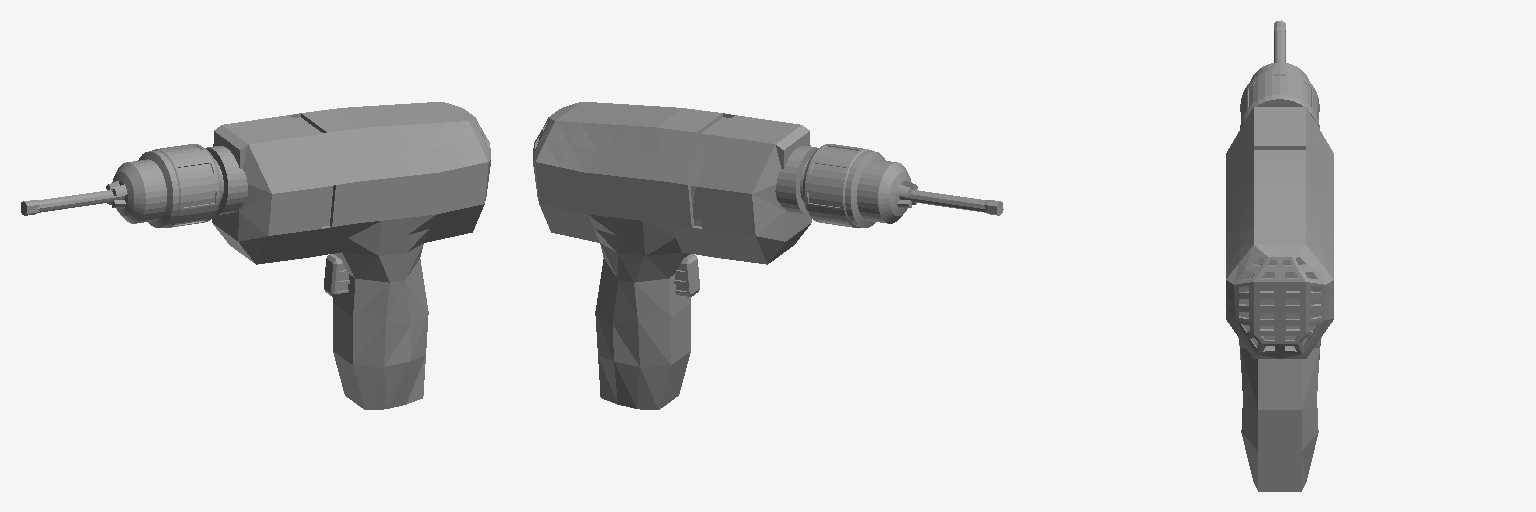
robot.urdf — drill:
<?xml version="1.0"?>
<!-- created with Phobos 1.0.1 "Capricious Choutengan" -->
  <robot name="drill">

    <material name="OrangeMaterial">
      <color rgba="0.64 0.64 0.64 1.0"/>
    </material>

    <link name="root_link">
      <inertial>
        <origin xyz="-3.45663 0 5.0471" rpy="0 0 0"/>
        <mass value="2"/>
        <inertia ixx="41.32003" ixy="0.22444" ixz="-14.01086" iyy="30.55873" iyz="-0.76454" izz="19.05242"/>
      </inertial>
      <visual name="Drill">
        <origin xyz="-0.37237 0 0.03529" rpy="0 1.5708 0"/>
        <geometry>
          <mesh filename="drill_meshes/dae/Plane.003.dae" scale="0.61114 0.61114 0.61114"/>
        </geometry>
        <material name="OrangeMaterial"/>
      </visual>
      <visual name="Drill Barrel">
        <origin xyz="-6.54089 0 4.97412" rpy="0 1.5708 0"/>
        <geometry>
          <mesh filename="drill_meshes/dae/Plane.005.dae" scale="0.61114 0.61114 0.61114"/>
        </geometry>
        <material name="OrangeMaterial"/>
      </visual>
      <collision name="Drill Barrel.000">
        <origin xyz="-6.34318 0 4.79986" rpy="0 1.5708 0"/>
        <geometry>
          <mesh filename="drill_meshes/dae/Plane.001.dae" scale="1.0 1.0 1.0"/>
        </geometry>
      </collision>

      <contact>
        <lateral_friction value="100"/>
      </contact>

      <collision name="Drill.000.001">
        <origin xyz="-0.38526 0 1.97041" rpy="0 1.5708 0"/>
        <geometry>
          <mesh filename="drill_meshes/dae/Plane.002.dae" scale="1.0 1.0 1.0"/>
        </geometry>
      </collision>

      <contact>
        <lateral_friction value="100"/>
      </contact>

    </link>

  </robot>

--- Render facts (derived) ---
3 views of the same robot in one strip: view 1: azimuth 30°, elevation 25°; view 2: azimuth 150°, elevation 25°; view 3: azimuth 270°, elevation 25° (orthographic).
Model drill with 1 links and 0 joints (none), rooted at root_link, posed all joints at 0.
Visible links, largest first — view 1: root_link; view 2: root_link; view 3: root_link.
Link boxes in pixels (box(x1,y1,x2,y2)): root_link: box(21, 102, 490, 409); root_link: box(533, 102, 1003, 409); root_link: box(1226, 20, 1333, 491).
Size in the robot's own frame: 12.05 by 2.5 by 7.59 metres.
2 mesh visuals loaded from 2 distinct referenced files (2 Collada DAE).